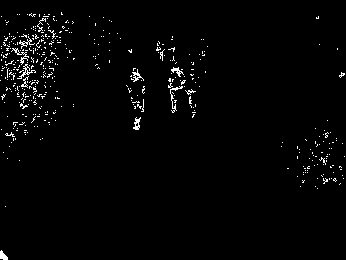person: (125, 66, 147, 133), (168, 62, 183, 113)
